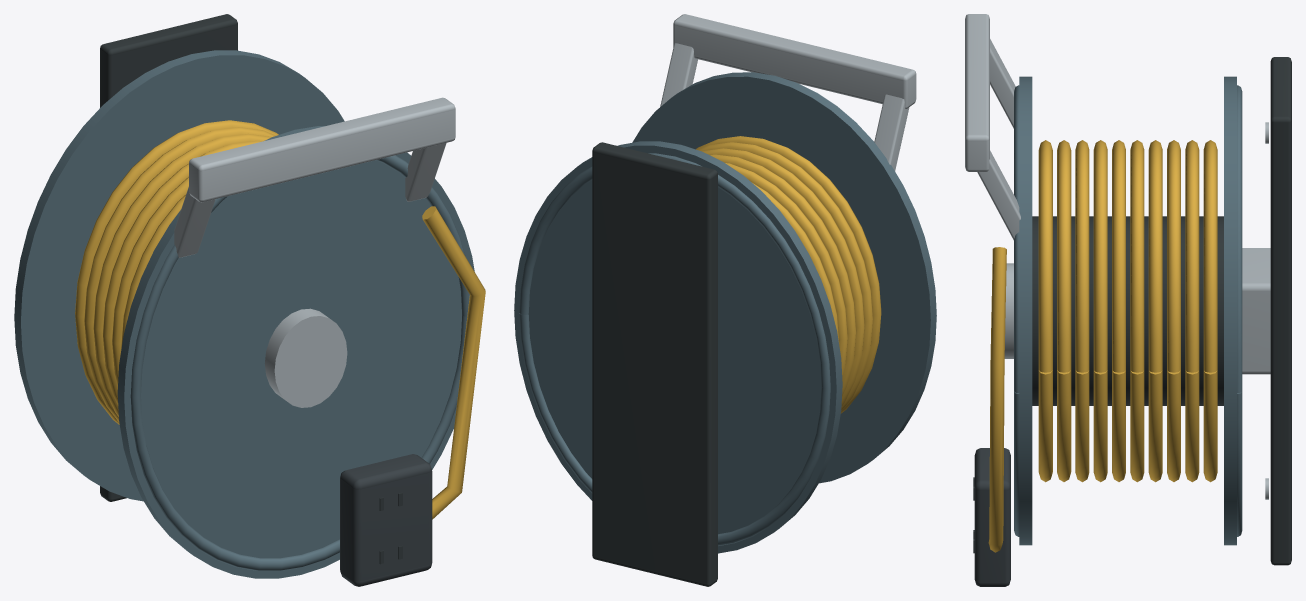
File: garage-cord-reel.glb
3 renders of one model, left to right at view 1: azimuth 30°, elevation 25°; view 2: azimuth 150°, elevation 25°; view 3: azimuth 270°, elevation 25°, orthographic. The views are drawn at different scales.
Parts seen in each view (by area): view 1: garage-cord-reel authored assembly; view 2: garage-cord-reel authored assembly; view 3: garage-cord-reel authored assembly.
Part boxes in pixels (x1,y1,x2,y2): garage-cord-reel authored assembly: (14, 14, 485, 586); garage-cord-reel authored assembly: (514, 14, 936, 586); garage-cord-reel authored assembly: (965, 14, 1291, 586).
Size of the model in its own units: 0.31 by 0.39 by 0.25.
